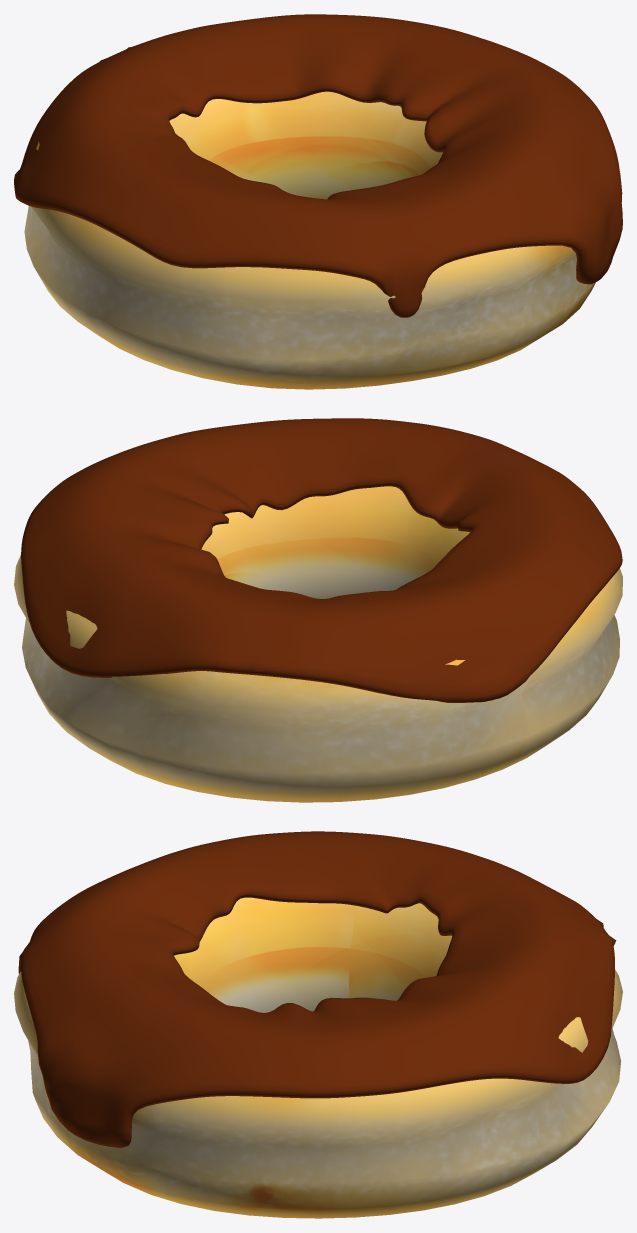
The model's file is donuts.glb.
The picture shows the model from 3 angles, top to bottom: view 1: azimuth 30°, elevation 25°; view 2: azimuth 150°, elevation 25°; view 3: azimuth 270°, elevation 25°; orthographic projection. The views are drawn at different scales.
Parts seen in each view (by area): view 1: Icing; view 2: Icing; view 3: Icing.
Part boxes in pixels (x1,y1,x2,y2): Icing: (14, 14, 622, 389); Icing: (14, 418, 622, 802); Icing: (14, 831, 622, 1218).
Size of the model in its own units: 2.63 by 0.9359 by 2.62.
Materials: 2 (1 with a texture image).
